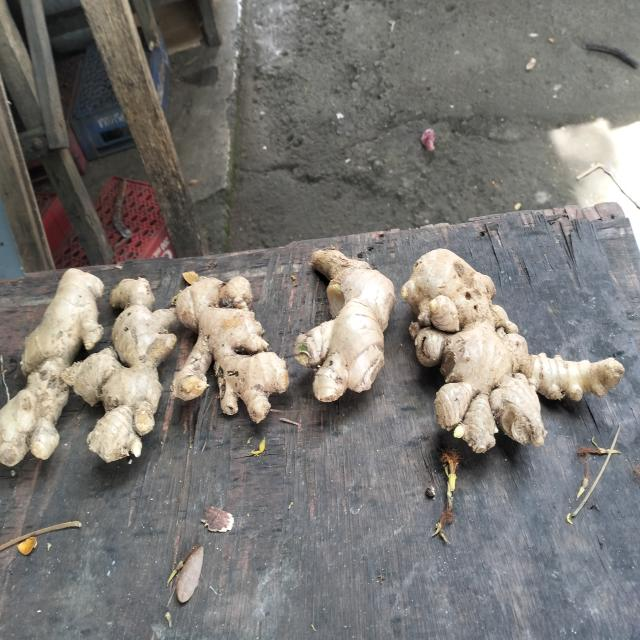ginger: (397, 234, 623, 459), (290, 213, 394, 411), (3, 251, 88, 472), (94, 249, 166, 473), (180, 259, 276, 422)
